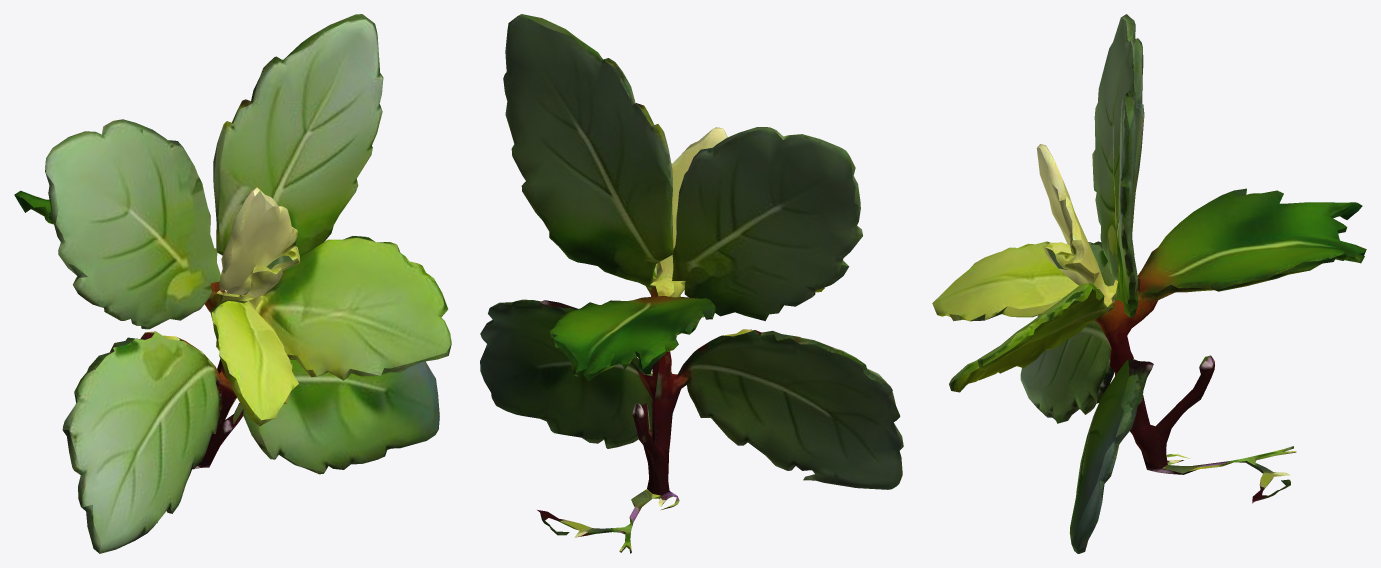
Rendered from wild_mint.glb.
The picture shows the model from 3 angles, left to right: view 1: azimuth 30°, elevation 25°; view 2: azimuth 150°, elevation 25°; view 3: azimuth 270°, elevation 25°; orthographic projection. The views are drawn at different scales.
Visible parts, largest first — view 1: item_wild_mint; view 2: item_wild_mint; view 3: item_wild_mint.
Boxes of the visible parts, x1,y1,x2,y2 form: item_wild_mint: [14, 14, 451, 553]; item_wild_mint: [480, 14, 903, 553]; item_wild_mint: [932, 14, 1366, 553].
Bounding box in the file's own units: 0.9526 × 1 × 0.9069.
1 material, 1 textured.
